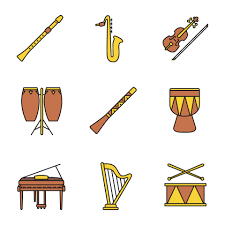Piano: (10, 160, 80, 217)
Saxophone: (86, 4, 162, 90)
Violin: (147, 14, 225, 73)
